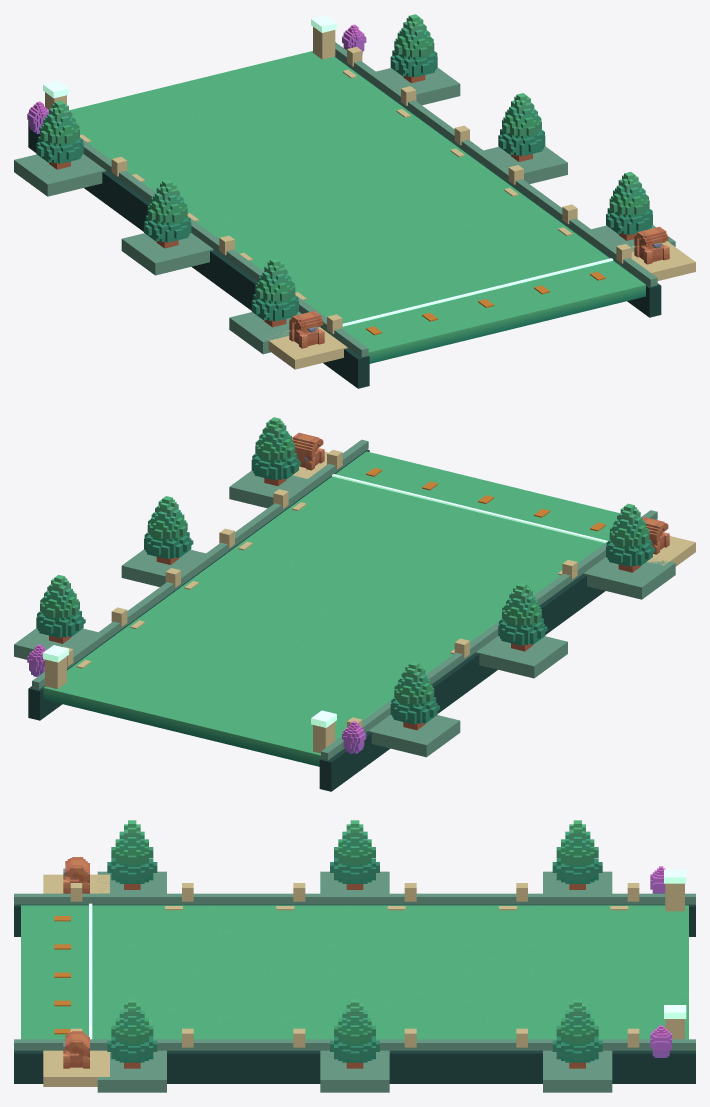
The model's file is chain_board.glb.
3 views of the same model, one above another, from view 1: azimuth 30°, elevation 25°; view 2: azimuth 150°, elevation 25°; view 3: azimuth 270°, elevation 25° (orthographic). The views are drawn at different scales.
Visible parts, largest first — view 1: CHAIN01_existing_tile_floor, side_foundation, side_rim.001, side_rim, tree_pod.001, tree_pod, tree_1_-8, tree_-1_8, tree_-1_0, tree_1_0, tree_-1_-8, tree_1_8 (+10 smaller); view 2: CHAIN01_existing_tile_floor, side_foundation, side_rim.001, side_rim, tree_pod, tree_pod.001, tree_pod.002, tree_1_8, tree_-1_-8, tree_-1_8, tree_1_0, tree_-1_0 (+11 smaller); view 3: CHAIN01_existing_tile_floor, side_foundation.001, side_rim, side_rim.001, tree_pod.003, tree_pod.004, tree_1_8, tree_1_-8, tree_-1_8, tree_-1_-8, tree_1_0, tree_-1_0 (+12 smaller).
Part boxes in pixels (x1,y1,x2,y2): CHAIN01_existing_tile_floor: (70, 51, 645, 363); side_foundation: (28, 120, 369, 388); side_rim.001: (335, 42, 657, 286); side_rim: (83, 139, 368, 357); tree_pod.001: (121, 233, 213, 275); tree_pod: (14, 154, 105, 196); tree_1_-8: (390, 14, 437, 83); tree_-1_8: (251, 258, 298, 327); tree_-1_0: (144, 179, 191, 248); tree_1_0: (498, 93, 545, 161); tree_-1_-8: (36, 100, 83, 169); tree_1_8: (606, 172, 652, 240); CHAIN01_existing_tile_floor: (43, 451, 619, 766); side_foundation: (319, 573, 605, 791); side_rim.001: (32, 439, 368, 689); side_rim: (321, 510, 657, 760); tree_pod: (368, 715, 460, 757); tree_pod.001: (476, 636, 567, 678); tree_pod.002: (583, 557, 675, 599); tree_1_8: (251, 417, 300, 485); tree_-1_-8: (390, 661, 439, 730); tree_-1_8: (606, 503, 655, 572); tree_1_0: (144, 496, 193, 564); tree_-1_0: (498, 582, 547, 651); CHAIN01_existing_tile_floor: (21, 905, 688, 1039); side_foundation.001: (14, 1050, 695, 1083); side_rim: (14, 893, 695, 904); side_rim.001: (14, 1039, 695, 1050); tree_pod.003: (543, 1050, 612, 1092); tree_pod.004: (320, 1050, 389, 1092); tree_1_8: (107, 999, 157, 1068); tree_1_-8: (552, 999, 602, 1068); tree_-1_8: (107, 820, 157, 889); tree_-1_-8: (552, 820, 602, 889); tree_1_0: (330, 999, 379, 1068); tree_-1_0: (330, 820, 379, 889).
Size of the model in its own units: 17.7 by 3.8 by 24.5.
Materials: 7 (1 with a texture image).
